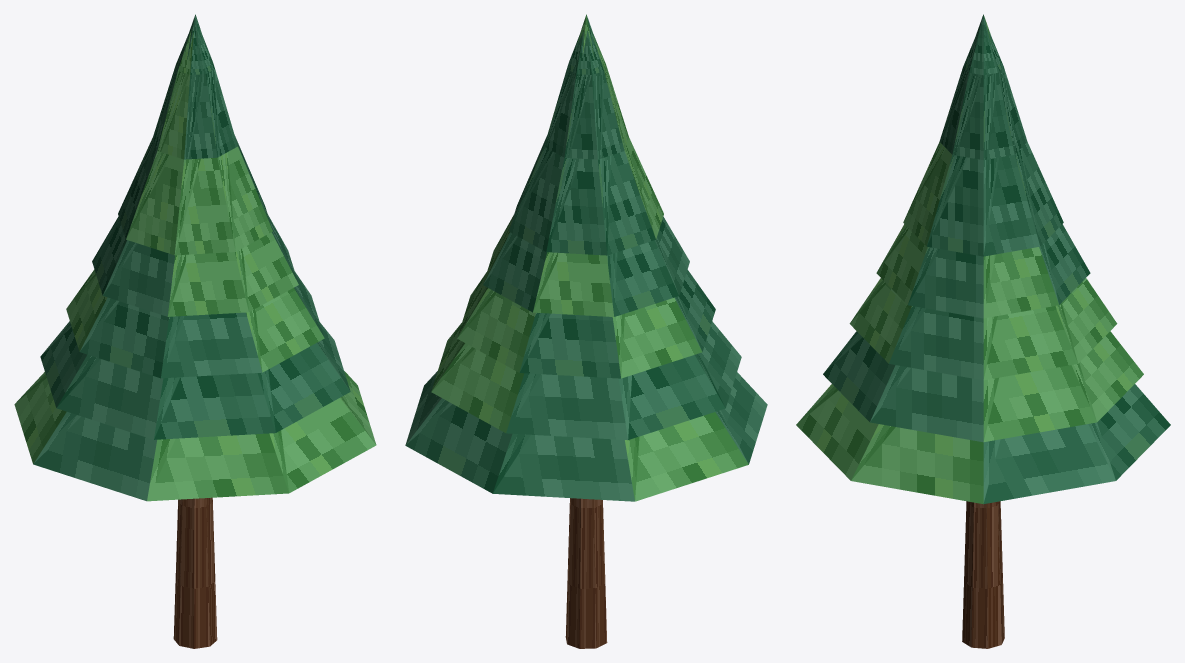
Rendered from 04_pino_alto.glb.
The picture shows the model from 3 angles, left to right: view 1: azimuth 30°, elevation 25°; view 2: azimuth 150°, elevation 25°; view 3: azimuth 270°, elevation 25°; orthographic projection.
Visible parts, largest first — view 1: world; view 2: world; view 3: world.
Boxes of the visible parts, x1=… form: world: x1=14, y1=14, x2=376, y2=648; world: x1=405, y1=14, x2=767, y2=648; world: x1=796, y1=14, x2=1170, y2=648.
Size of the model in its own units: 35.29 by 65 by 35.29.
1 material, 1 textured.
